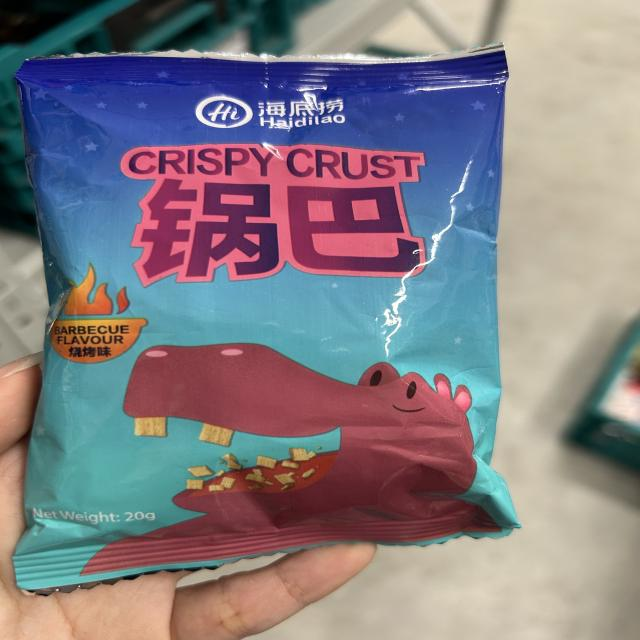object_name: (42, 65, 487, 542)
